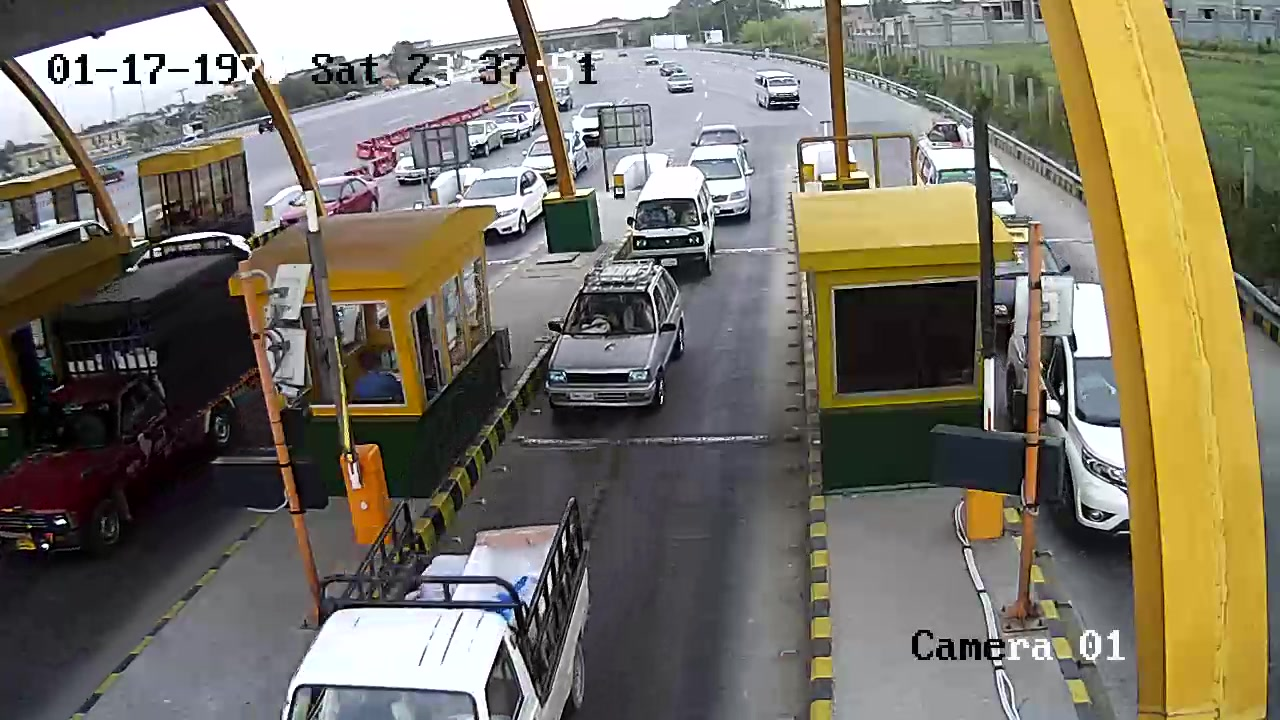F1: (537, 251, 693, 435)
